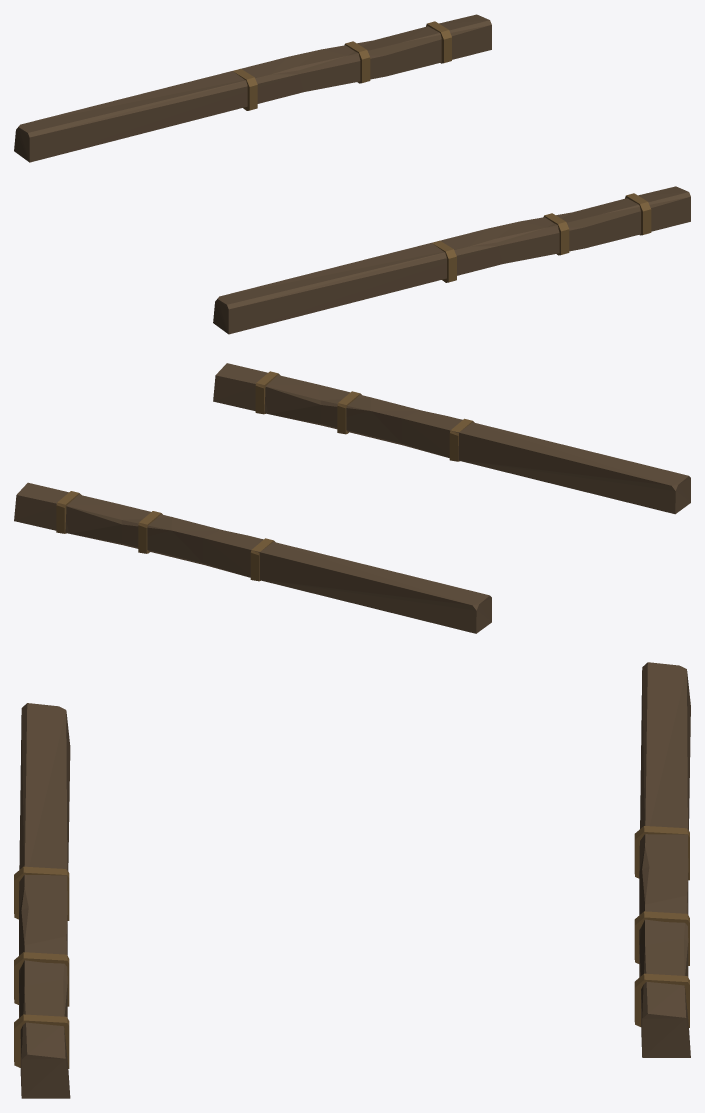
The picture shows the model from 3 angles, top to bottom: view 1: azimuth 30°, elevation 25°; view 2: azimuth 150°, elevation 25°; view 3: azimuth 270°, elevation 25°; orthographic projection. The views are drawn at different scales.
Visible parts, largest first — view 1: Cube.012; view 2: Cube.012; view 3: Cube.012.
Boxes of the visible parts, <box> form: Cube.012: <box>14,14,690,334</box>; Cube.012: <box>14,363,690,633</box>; Cube.012: <box>14,662,690,1098</box>.
Bounding box in the file's own units: 13.41 × 1.59 × 10.91.
1 material, 1 textured.
